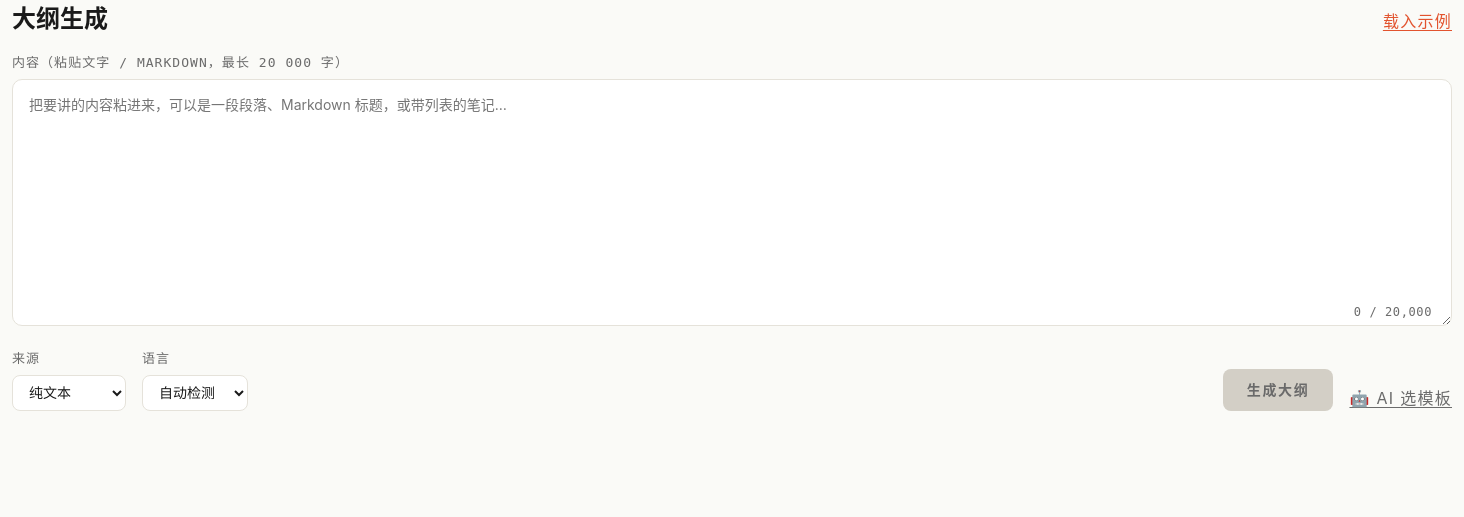
Test: OutlineForm › M3-2: AI auto-pick shows fallback badge when used_fallback=true
Type "hello" into the text box labelled "内容（粘贴文字 / Markdown，最长 20 000 字） 0 / 20,000" at (732, 203), box [12,79,1452,326]
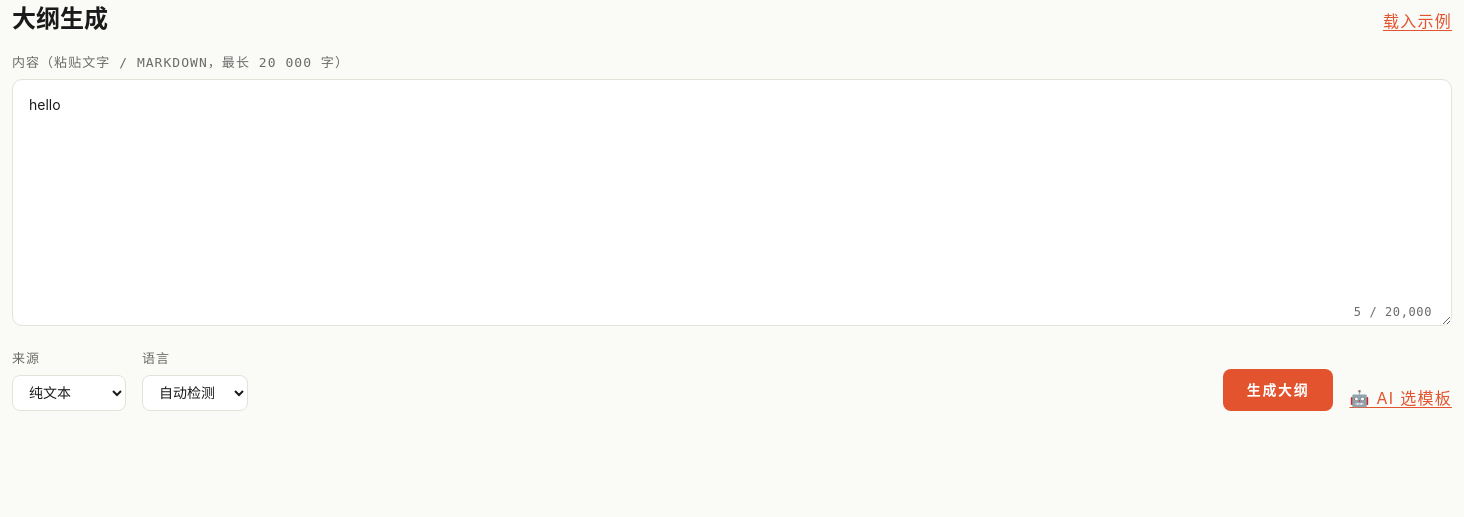
Click the button "🤖 AI 选模板" at (1401, 399), box [1350,386,1452,411]
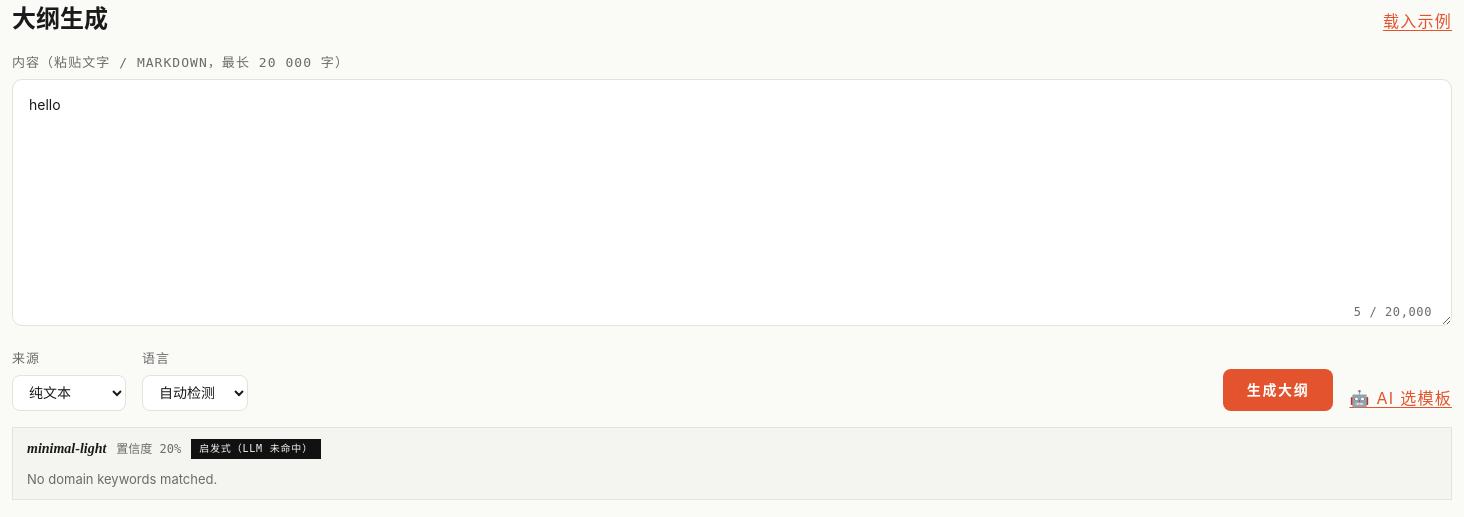
Now the text "启发式（LLM 未命中）" is shown, box [191,439,321,459]
